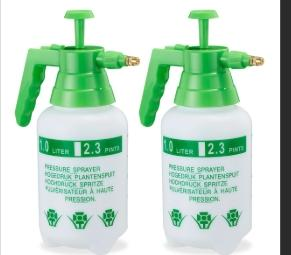PULVERISATEUR: (10, 0, 271, 255)
